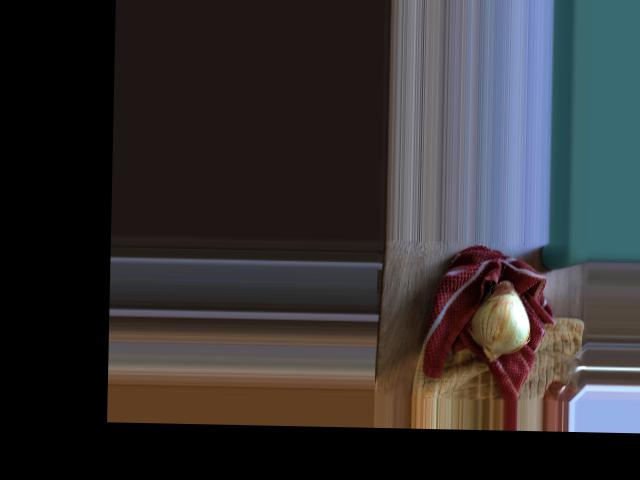onion: (466, 284, 535, 356)
